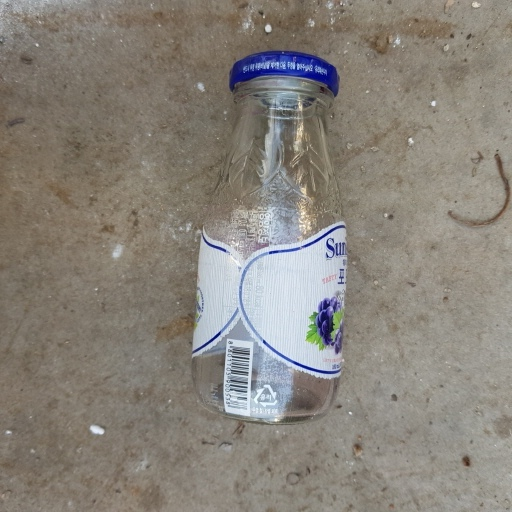Glass_4: (185, 48, 356, 422)
